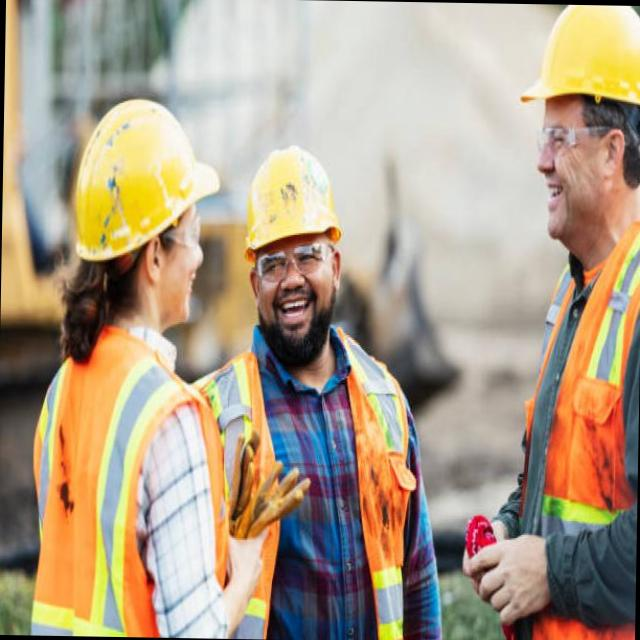Helmet: (79, 84, 223, 261), (511, 7, 640, 110), (247, 138, 335, 252)
Vest: (40, 342, 218, 638), (511, 259, 640, 640)
